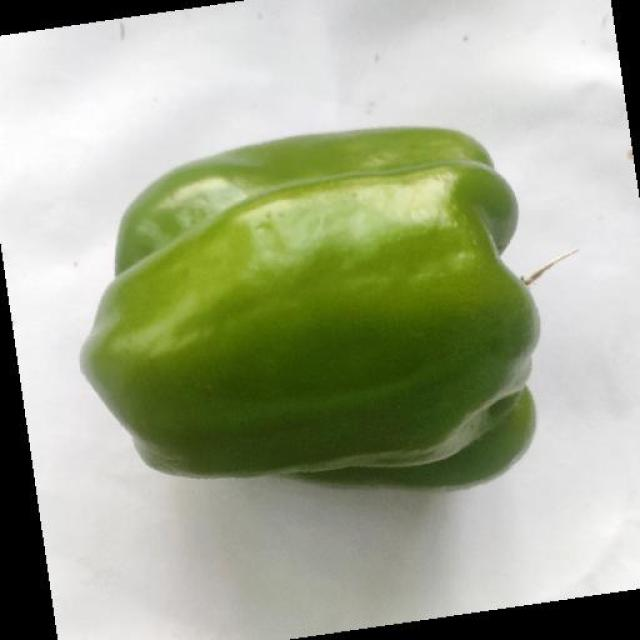Fresh_Capsicum: (95, 112, 528, 500)
